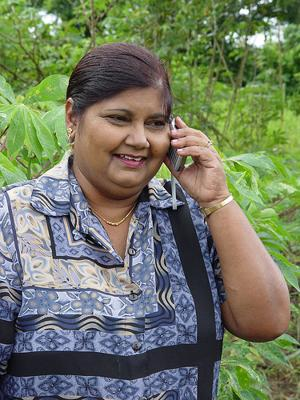person: (2, 41, 291, 400)
